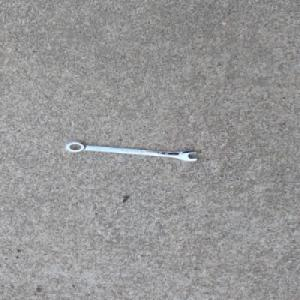Wrench: (64, 141, 199, 162)
